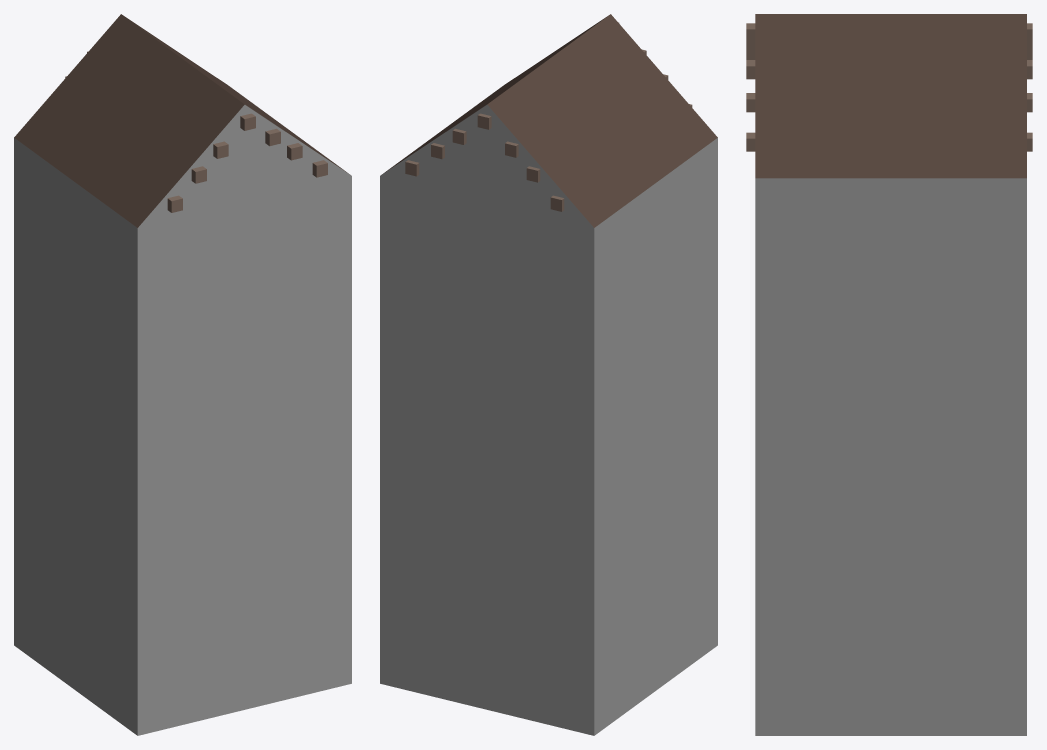
File: windmill.fbx
3 views of the same model, side by side, from view 1: azimuth 30°, elevation 25°; view 2: azimuth 150°, elevation 25°; view 3: azimuth 270°, elevation 25° (orthographic). The views are drawn at different scales.
Parts seen in each view (by area): view 1: Mill; view 2: Mill; view 3: Mill.
Boxes of the visible parts, x1,y1,x2,y2 form: Mill: (14, 14, 351, 735); Mill: (380, 14, 717, 735); Mill: (746, 14, 1032, 735).
Bounding box in the file's own units: 0.2188 × 0.5909 × 0.2307.
